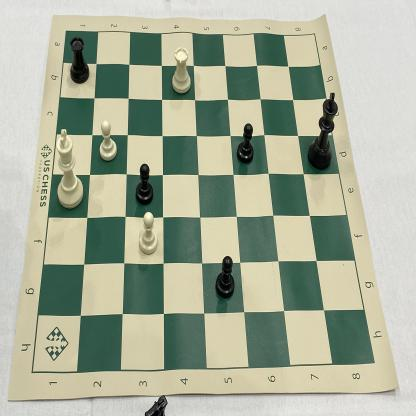black-king: (304, 88, 341, 175)
black-pawn: (210, 251, 240, 306), (231, 116, 260, 170), (131, 158, 157, 209)
black-rook: (65, 32, 93, 90)
white-king: (52, 123, 90, 214)
white-pawn: (134, 209, 162, 260), (95, 117, 120, 164)
white-rook: (167, 44, 196, 103)
